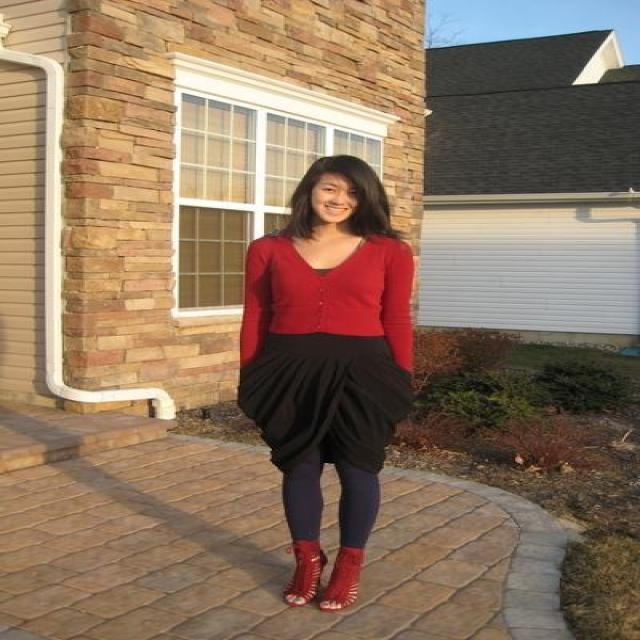shirt: (224, 234, 414, 370)
shoe: (282, 540, 362, 621)
skirt: (237, 332, 430, 468)
